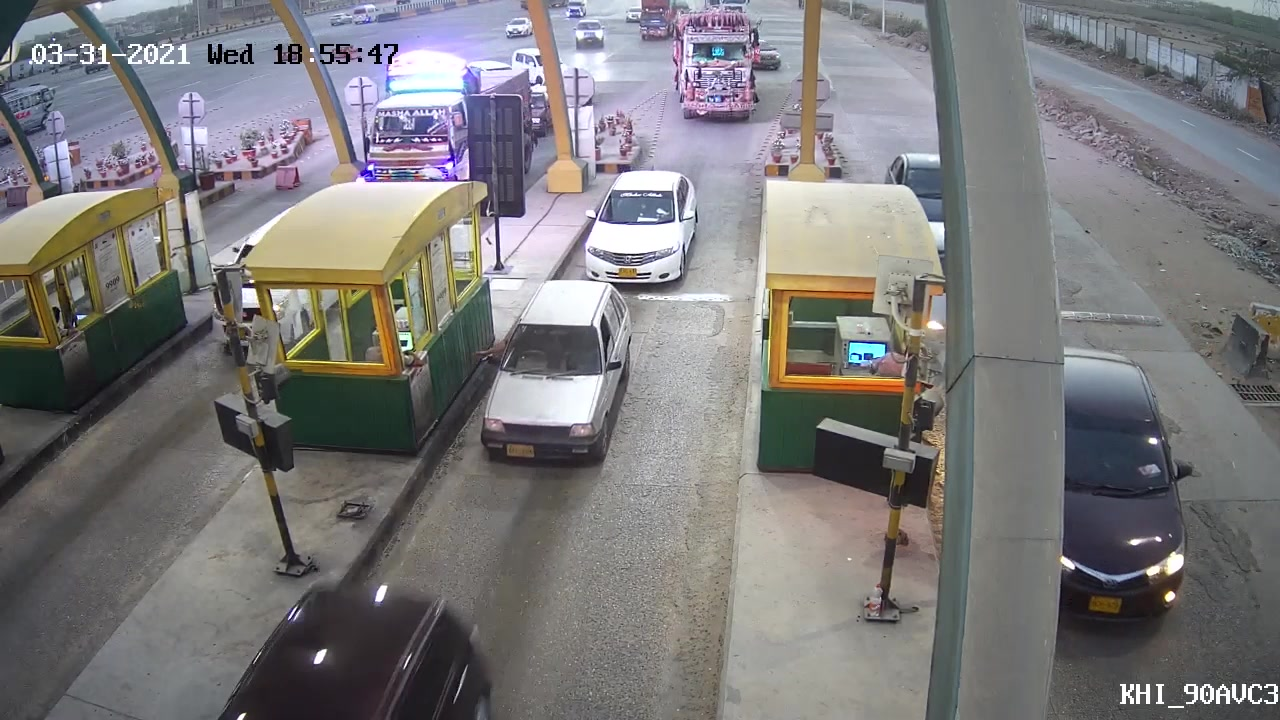F1: (479, 275, 639, 478), (573, 164, 699, 289)
